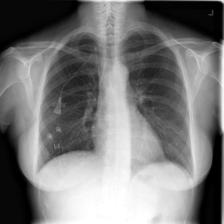normal: (30, 25, 198, 180)
